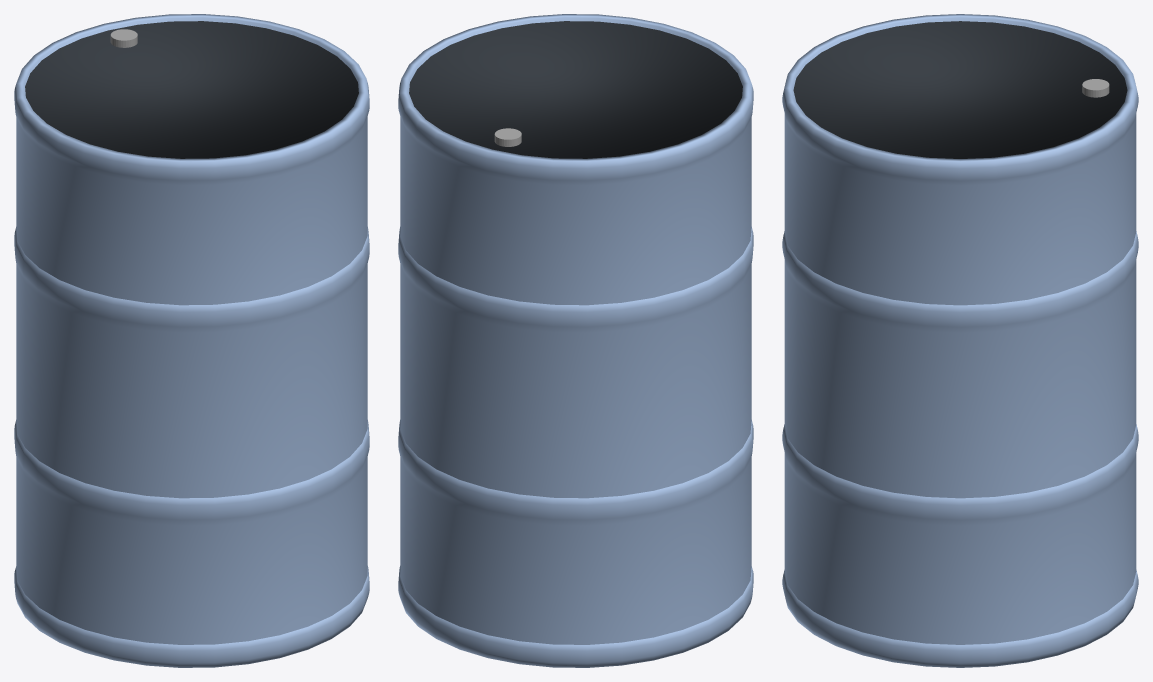
Rendered from OilDrum.glb.
3 renders of one model, left to right at view 1: azimuth 30°, elevation 25°; view 2: azimuth 150°, elevation 25°; view 3: azimuth 270°, elevation 25°, orthographic.
Visible parts, largest first — view 1: Cylinder; view 2: Cylinder; view 3: Cylinder.
Part boxes in pixels (left/top/right/bottom): Cylinder: left=14, top=14, right=369, bottom=667; Cylinder: left=398, top=14, right=753, bottom=667; Cylinder: left=782, top=14, right=1138, bottom=667.
Bounding box in the file's own units: 2.63 × 4.15 × 2.63.
